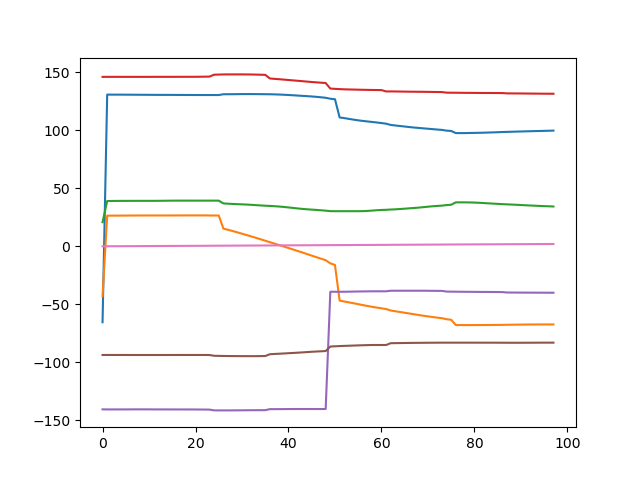Good_Bicep_Curl: (2, 1, 640, 479)
